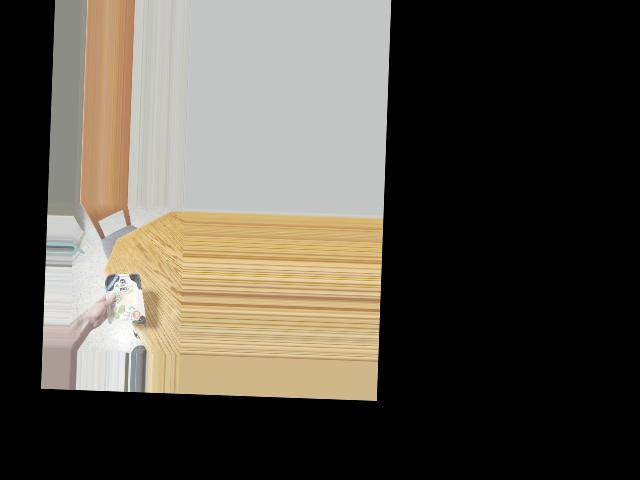cheese: (101, 265, 147, 330)
